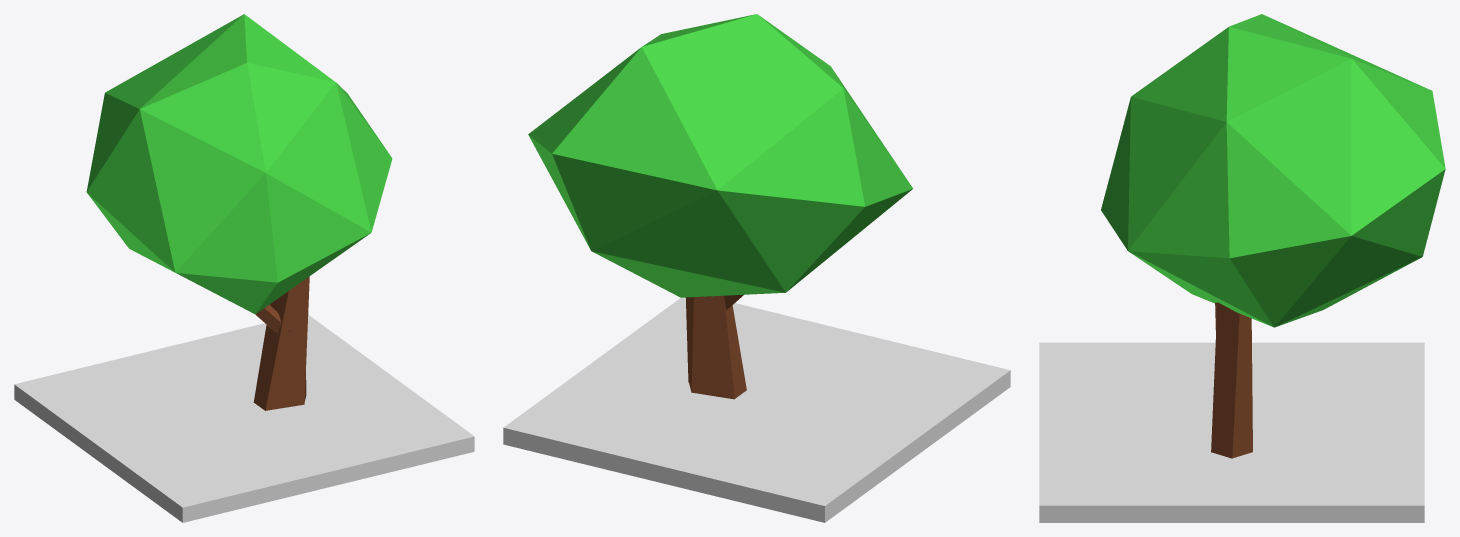
Rendered from Wood_4 05.FBX.
3 renders of one model, left to right at view 1: azimuth 30°, elevation 25°; view 2: azimuth 150°, elevation 25°; view 3: azimuth 270°, elevation 25°, orthographic. The views are drawn at different scales.
Visible parts, largest first — view 1: GeoSphere006, Box010, Cylinder005; view 2: GeoSphere006, Box010, Cylinder005; view 3: GeoSphere006, Box010, Cylinder005.
Boxes of the visible parts, x1,y1,x2,y2 form: GeoSphere006: (86, 14, 392, 314); Box010: (14, 315, 474, 522); Cylinder005: (253, 276, 309, 410); GeoSphere006: (528, 14, 913, 297); Box010: (503, 297, 1010, 522); Cylinder005: (685, 294, 746, 399); GeoSphere006: (1101, 14, 1445, 327); Box010: (1039, 342, 1424, 522); Cylinder005: (1211, 302, 1252, 458).
Bounding box in the file's own units: 1.03 × 1.19 × 1.05.
2 materials, 2 textured.
